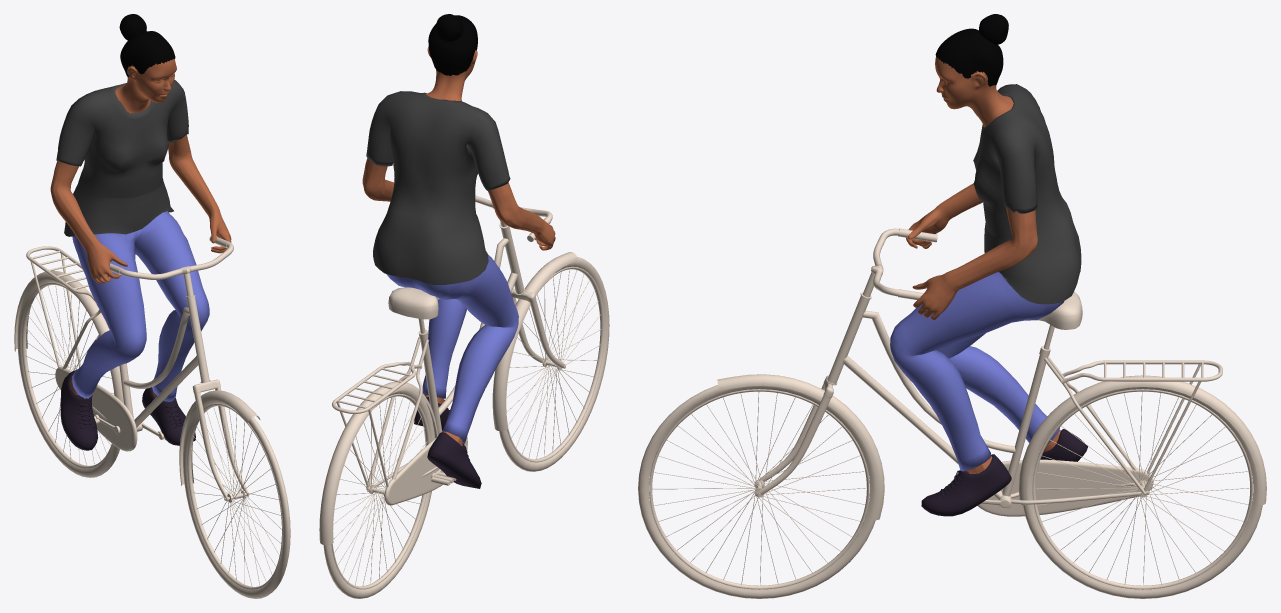
The model's file is Woman_11_Biking-transformed.glb.
3 views of the same model, side by side, from view 1: azimuth 30°, elevation 25°; view 2: azimuth 150°, elevation 25°; view 3: azimuth 270°, elevation 25° (orthographic). The views are drawn at different scales.
Parts seen in each view (by area): view 1: Bike, Tops, Bottoms, Body, Shoes, Hair; view 2: Bike, Tops, Bottoms, Body, Hair, Shoes; view 3: Bike, Bottoms, Tops, Body, Shoes, Hair.
Part boxes in pixels (x1=…): Bike: x1=14, y1=236, x2=290, y2=598; Tops: x1=56, y1=80, x2=188, y2=236; Bottoms: x1=72, y1=211, x2=209, y2=401; Body: x1=50, y1=59, x2=231, y2=397; Shoes: x1=60, y1=370, x2=195, y2=450; Hair: x1=119, y1=14, x2=175, y2=77; Bike: x1=319, y1=195, x2=609, y2=598; Tops: x1=366, y1=91, x2=510, y2=284; Bottoms: x1=386, y1=254, x2=518, y2=443; Body: x1=362, y1=47, x2=555, y2=445; Hair: x1=428, y1=14, x2=477, y2=75; Shoes: x1=414, y1=397, x2=481, y2=488; Bike: x1=638, y1=228, x2=1266, y2=598; Bottoms: x1=890, y1=272, x2=1064, y2=471; Tops: x1=973, y1=84, x2=1081, y2=304; Body: x1=906, y1=56, x2=1060, y2=473; Shoes: x1=921, y1=429, x2=1087, y2=516; Hair: x1=935, y1=14, x2=1008, y2=86.
Size of the model in its own units: 0.5696 by 1.9 by 1.86.
